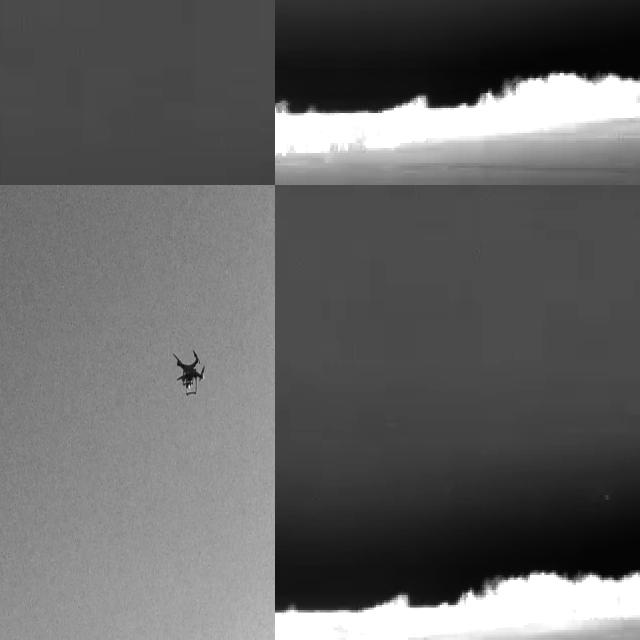0: (588, 482, 626, 520)
drone: (173, 344, 210, 396)
